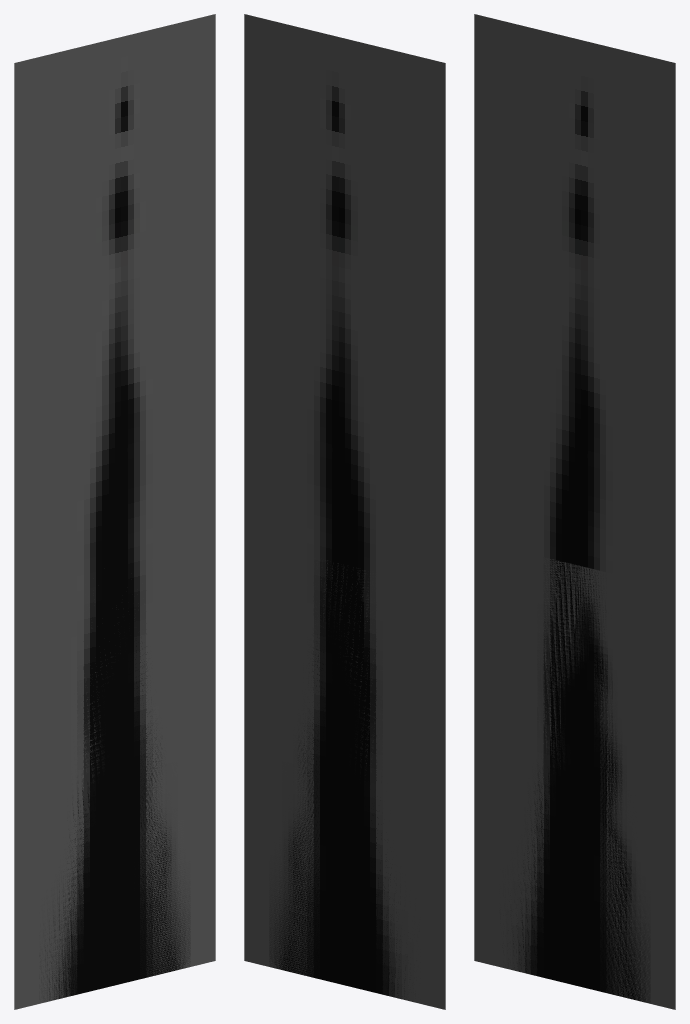
File: sfx_ct0125_always03.glb
3 views of the same model, side by side, from view 1: azimuth 30°, elevation 25°; view 2: azimuth 150°, elevation 25°; view 3: azimuth 330°, elevation 25° (orthographic).
Visible parts, largest first — view 1: sfx_ct0125_always03_obj1, sfx_ct0125_always03_obj2; view 2: sfx_ct0125_always03_obj1, sfx_ct0125_always03_obj2; view 3: sfx_ct0125_always03_obj1, sfx_ct0125_always03_obj2.
Part boxes in pixels (<box>): sfx_ct0125_always03_obj1: <box>14,14,215,1009</box>; sfx_ct0125_always03_obj2: <box>39,559,190,1002</box>; sfx_ct0125_always03_obj1: <box>244,14,445,1009</box>; sfx_ct0125_always03_obj2: <box>269,548,420,1000</box>; sfx_ct0125_always03_obj1: <box>474,14,675,1009</box>; sfx_ct0125_always03_obj2: <box>499,547,650,1003</box>.
Bounding box in the file's own units: 0.1358 × 0.6111 × 1.62e-09.
2 materials, 2 textured.
